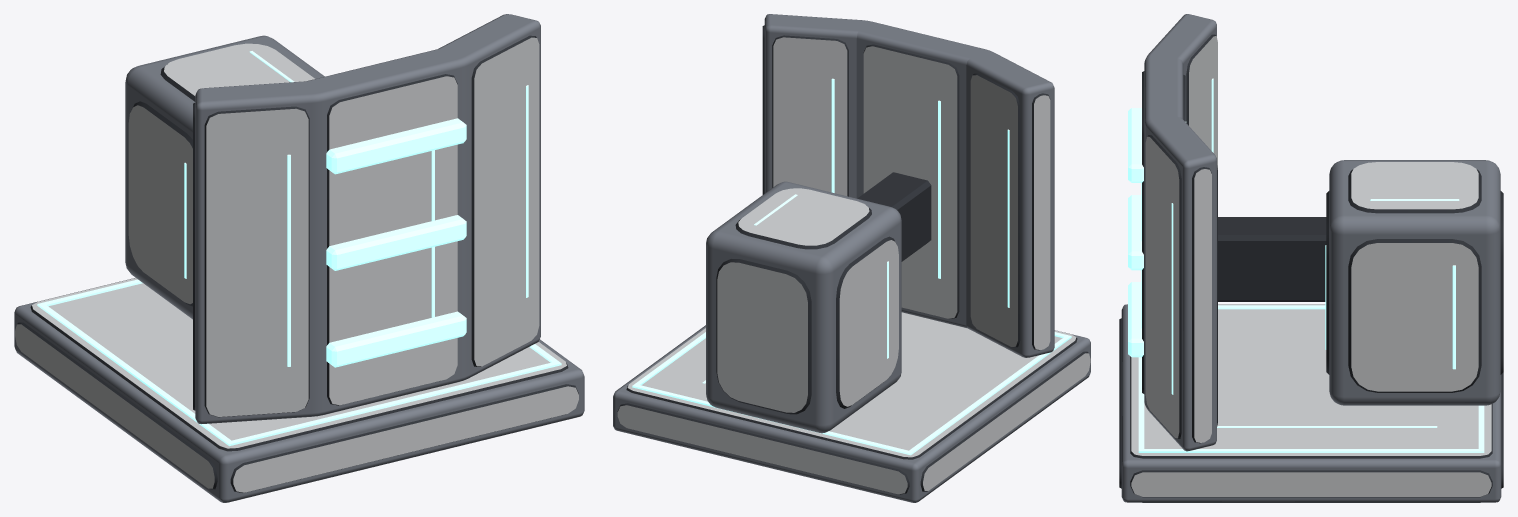
Rendered from R4X_DirectionalShield.fbx.
3 renders of one model, left to right at view 1: azimuth 30°, elevation 25°; view 2: azimuth 150°, elevation 25°; view 3: azimuth 270°, elevation 25°, orthographic. The views are drawn at different scales.
Parts seen in each view (by area): view 1: R4X_DirectionalShield_Body; view 2: R4X_DirectionalShield_Body; view 3: R4X_DirectionalShield_Body.
Part boxes in pixels (x1,y1,x2,y2): R4X_DirectionalShield_Body: [14, 14, 584, 502]; R4X_DirectionalShield_Body: [613, 14, 1090, 502]; R4X_DirectionalShield_Body: [1119, 14, 1503, 502].
Size of the model in its own units: 0.52 by 0.507 by 0.52.
